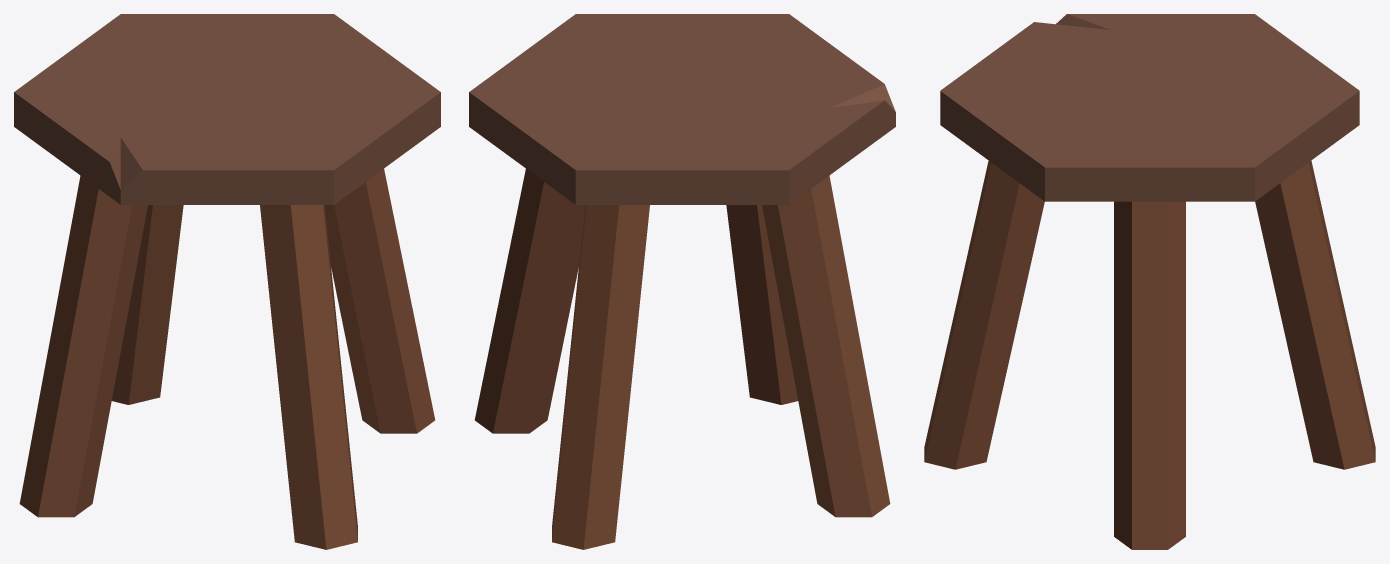
File: Chair  Asia.fbx
3 views of the same model, side by side, from view 1: azimuth 30°, elevation 25°; view 2: azimuth 150°, elevation 25°; view 3: azimuth 270°, elevation 25° (orthographic).
Visible parts, largest first — view 1: Chair; view 2: Chair; view 3: Chair.
Part boxes in pixels (<box>): Chair: <box>14,14,440,549</box>; Chair: <box>469,14,895,549</box>; Chair: <box>924,14,1375,549</box>.
Bounding box in the file's own units: 0.4459 × 0.3967 × 0.4459.
